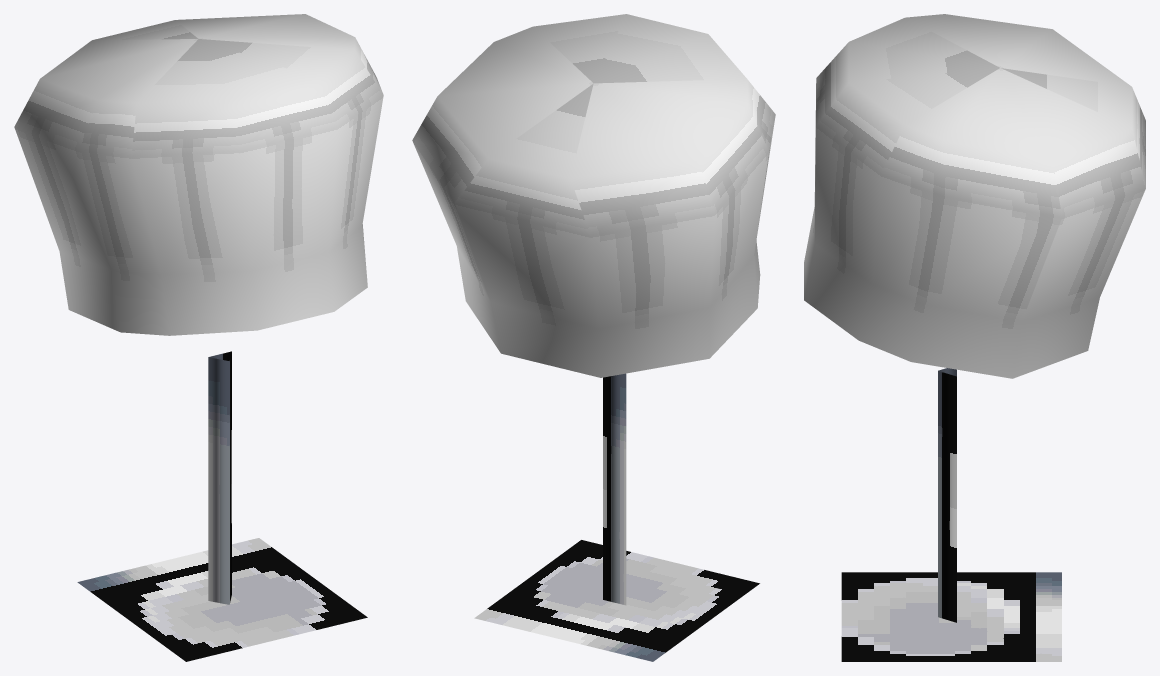
The picture shows the model from 3 angles, left to right: view 1: azimuth 30°, elevation 25°; view 2: azimuth 150°, elevation 25°; view 3: azimuth 270°, elevation 25°; orthographic projection. The views are drawn at different scales.
Parts seen in each view (by area): view 1: 2898head061_c; view 2: 2898head061_c; view 3: 2898head061_c.
Boxes of the visible parts, <box> form: 2898head061_c: <box>14,14,383,661</box>; 2898head061_c: <box>412,14,775,661</box>; 2898head061_c: <box>804,14,1145,661</box>.
Size of the model in its own units: 0.7817 by 1.34 by 0.7449.
2 materials, 2 textured.
